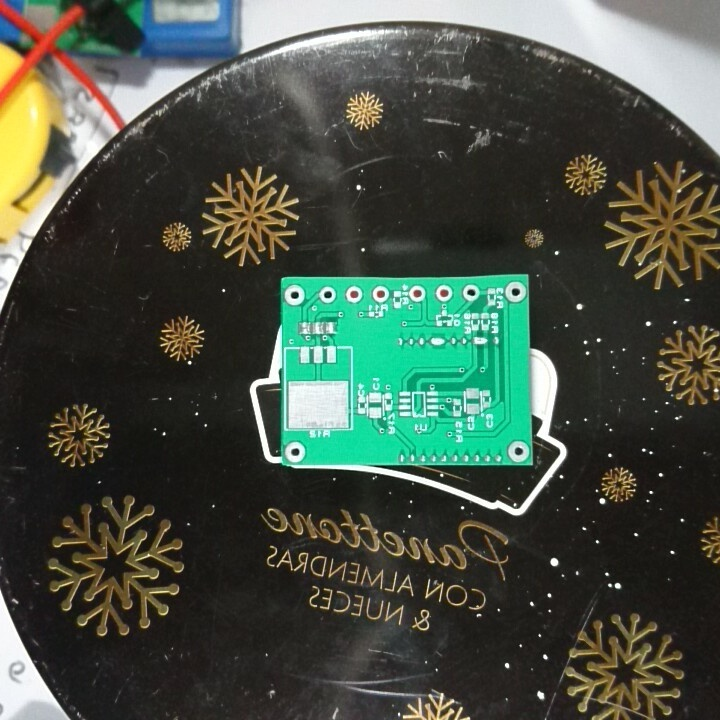F: (502, 280, 528, 304), (283, 439, 307, 463), (505, 440, 530, 463), (283, 283, 305, 305), (343, 283, 363, 303), (406, 283, 427, 302), (461, 282, 480, 302), (434, 282, 453, 302), (370, 284, 390, 302), (317, 286, 337, 302)
P: (470, 334, 489, 348), (427, 334, 446, 347)
